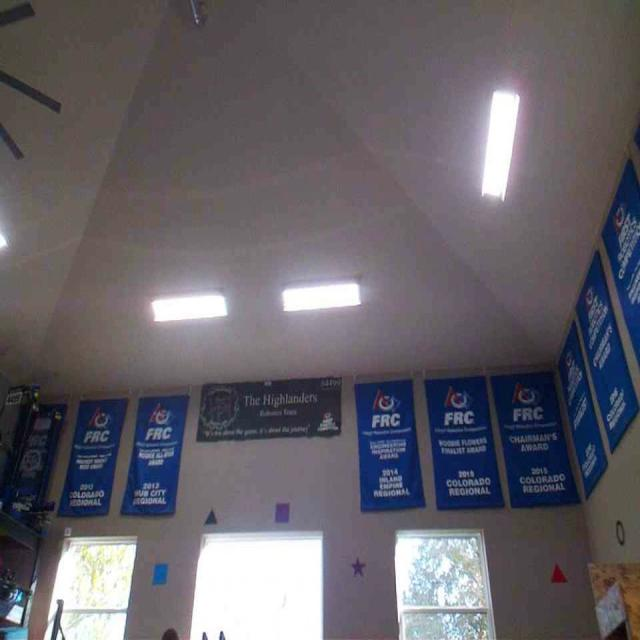ring_black: (615, 519, 626, 545)
square_blue: (151, 562, 169, 583)
square_purple: (274, 502, 290, 521)
star_purple: (349, 555, 366, 577)
triangle_black: (202, 507, 216, 525)
triangle_red: (550, 560, 567, 581)
